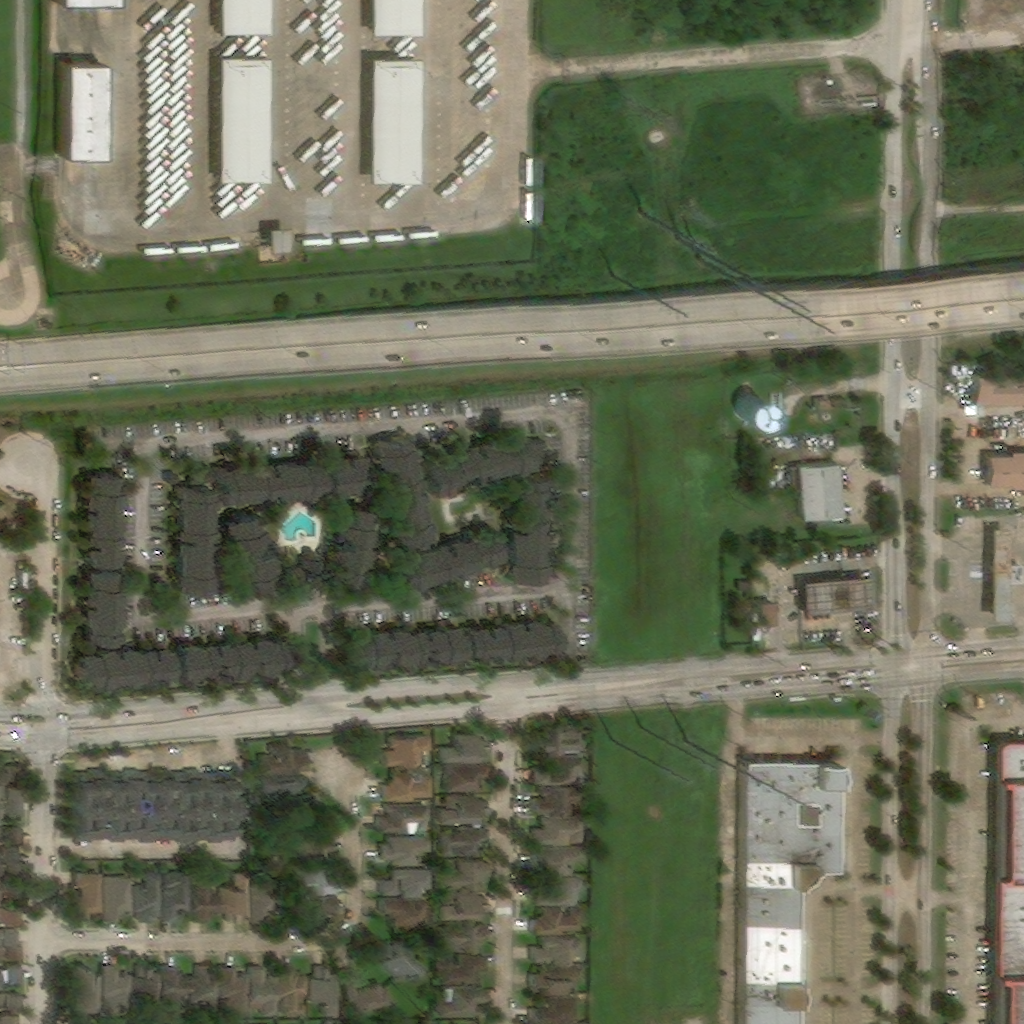no_damage: (741, 755, 842, 1023), (74, 769, 243, 852), (988, 735, 1022, 1023), (423, 430, 548, 500), (217, 451, 366, 505), (372, 431, 434, 548), (395, 523, 503, 589), (215, 50, 269, 178), (366, 54, 420, 180), (348, 618, 464, 671), (174, 631, 288, 684), (169, 471, 216, 595), (59, 54, 103, 164), (77, 642, 173, 692), (507, 472, 549, 584), (222, 507, 274, 591), (82, 466, 124, 564), (465, 615, 554, 661), (327, 501, 373, 583), (82, 564, 126, 645), (250, 966, 312, 1021), (280, 821, 351, 867), (988, 525, 1022, 620), (793, 461, 844, 524), (799, 572, 872, 615), (134, 963, 192, 1017), (252, 793, 320, 836), (373, 942, 430, 989), (343, 968, 396, 1018), (959, 373, 1022, 414), (286, 862, 356, 897), (250, 773, 311, 811), (285, 892, 357, 923), (442, 923, 504, 957), (441, 892, 505, 924), (532, 874, 590, 909), (531, 935, 585, 971), (366, 0, 424, 33), (535, 784, 589, 819), (69, 965, 103, 1020), (383, 735, 436, 770), (441, 956, 494, 991), (535, 724, 588, 759), (439, 860, 493, 894), (534, 757, 589, 790), (532, 817, 585, 851), (532, 907, 585, 940), (441, 827, 492, 861), (102, 965, 134, 1018), (442, 796, 493, 829), (74, 872, 105, 926), (261, 744, 313, 776), (534, 991, 586, 1023), (134, 872, 164, 927), (533, 968, 586, 999), (382, 899, 433, 931), (163, 872, 193, 926), (441, 986, 490, 1019), (442, 734, 492, 766), (192, 873, 222, 926), (102, 877, 135, 925), (191, 966, 222, 1017), (217, 0, 269, 30), (381, 775, 434, 804), (221, 874, 251, 925), (383, 870, 434, 900), (446, 763, 492, 796), (986, 448, 1022, 490), (310, 975, 343, 1019), (222, 967, 251, 1017), (381, 806, 431, 835), (382, 839, 432, 868), (541, 847, 586, 877), (301, 552, 324, 583), (5, 932, 26, 963), (0, 906, 26, 930), (756, 598, 777, 627), (267, 223, 290, 249), (9, 786, 26, 819), (1, 965, 26, 986), (191, 464, 215, 482), (5, 847, 22, 871), (6, 826, 26, 845), (6, 993, 22, 1010), (4, 881, 22, 896), (815, 399, 833, 414), (835, 398, 851, 411), (0, 1013, 20, 1023), (0, 755, 8, 778), (0, 801, 9, 821), (0, 779, 7, 802), (0, 823, 7, 843)
